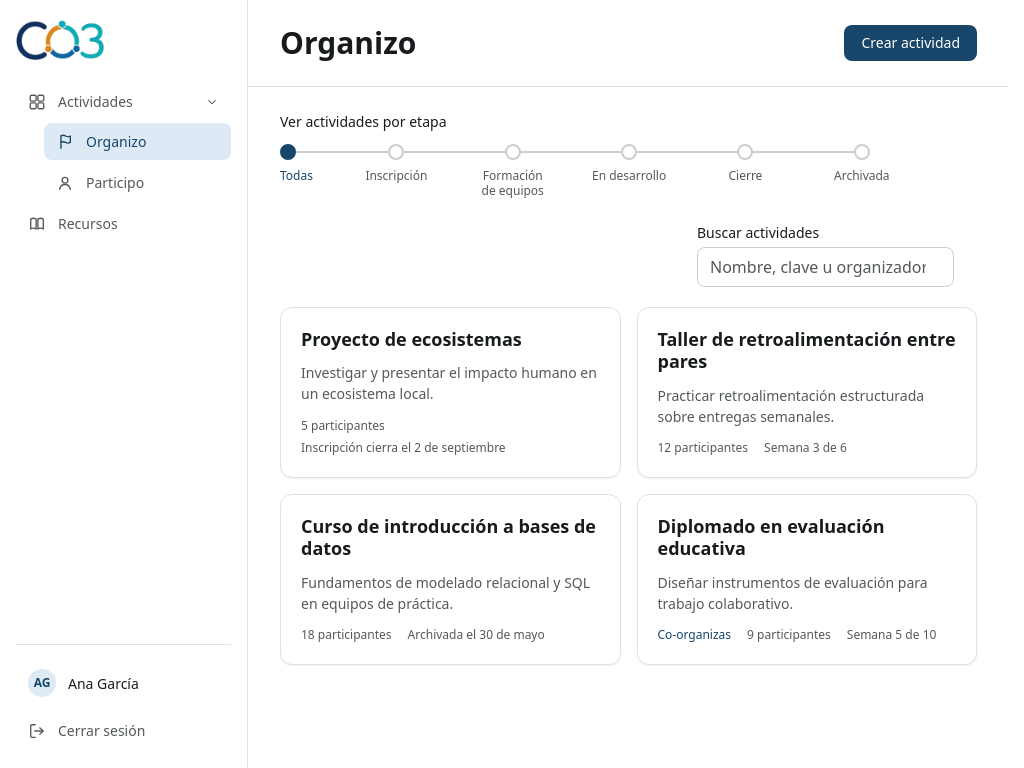
Test: PantallaMisActividades › rol="organizo" › combina la búsqueda con el filtro por estado
Check: the heading "Proyecto de ecosistemas" is shown, box x1=301 y1=326 x2=522 y2=350
Type "proyecto" into the search field labelled "Buscar actividades" at (826, 266), box x1=697 y1=246 x2=954 y2=286
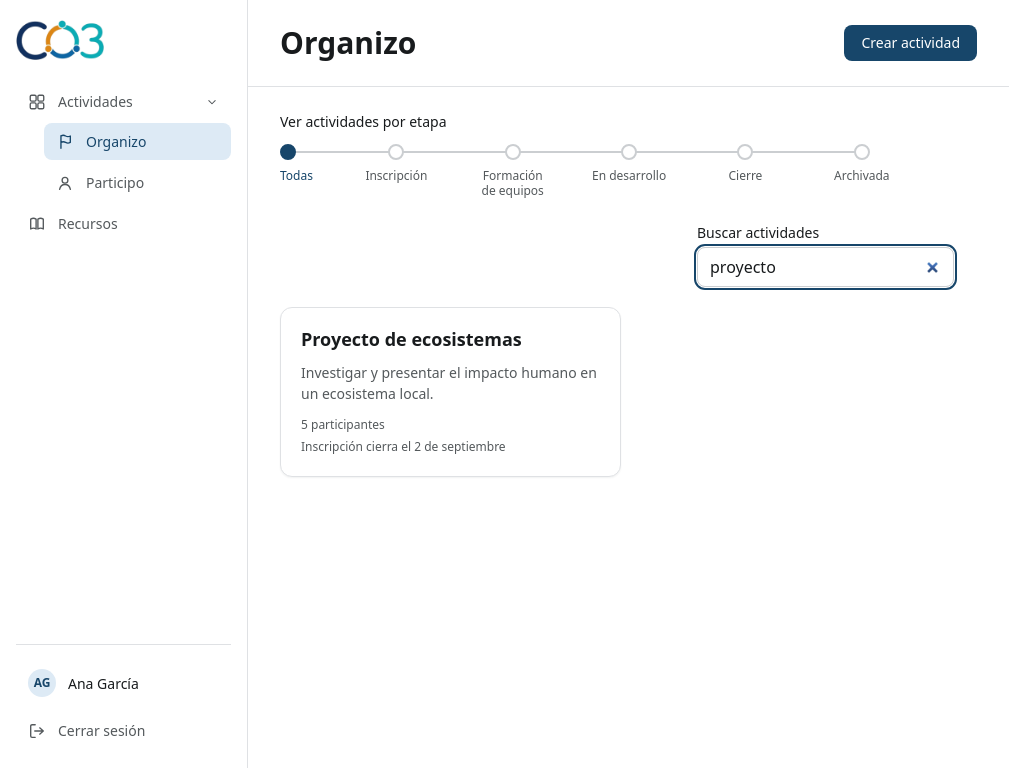
Click the 4th button named "En desarrollo" at (629, 152), box x1=621 y1=144 x2=637 y2=160
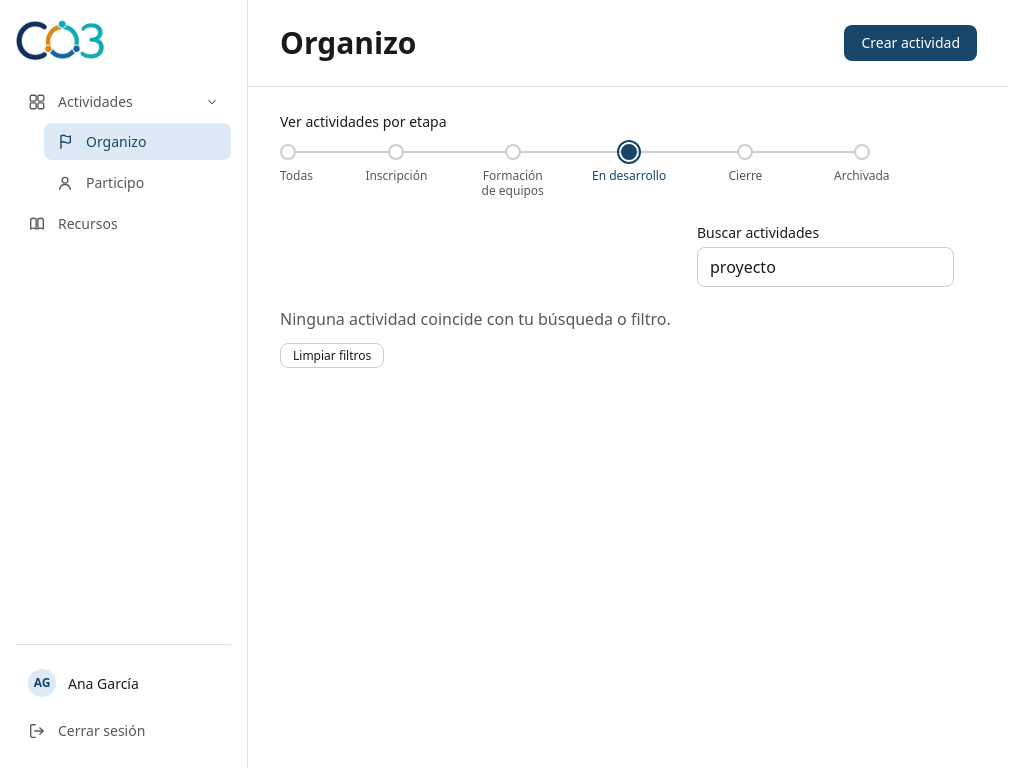
Check: the text "Ninguna actividad coincide con tu búsqueda o filtro." is shown, box x1=280 y1=306 x2=671 y2=330
